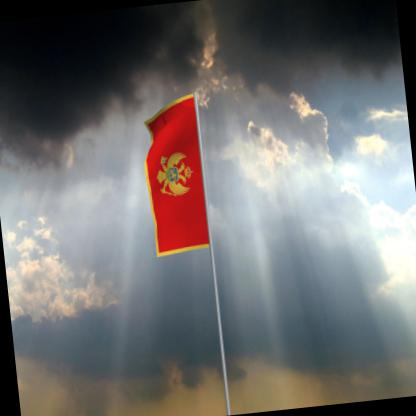me: (137, 93, 211, 259)
